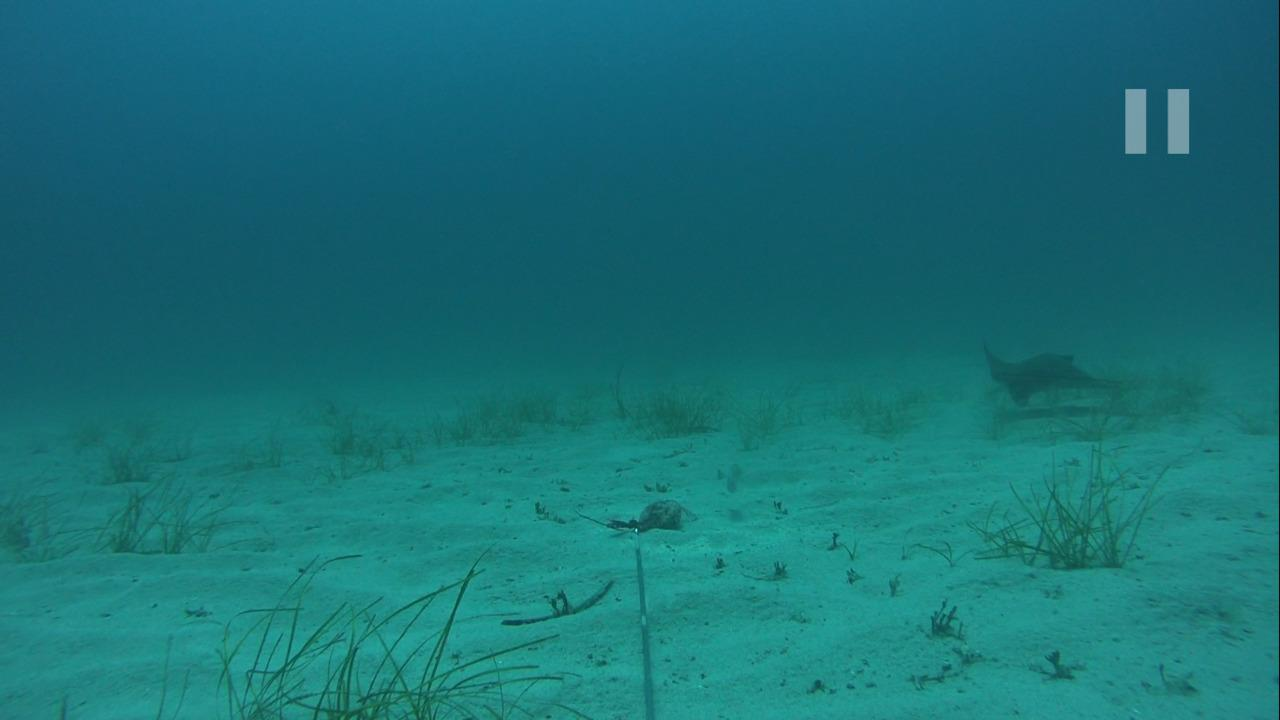myliobatis: (969, 333, 1123, 409)
raor: (716, 455, 753, 494)
